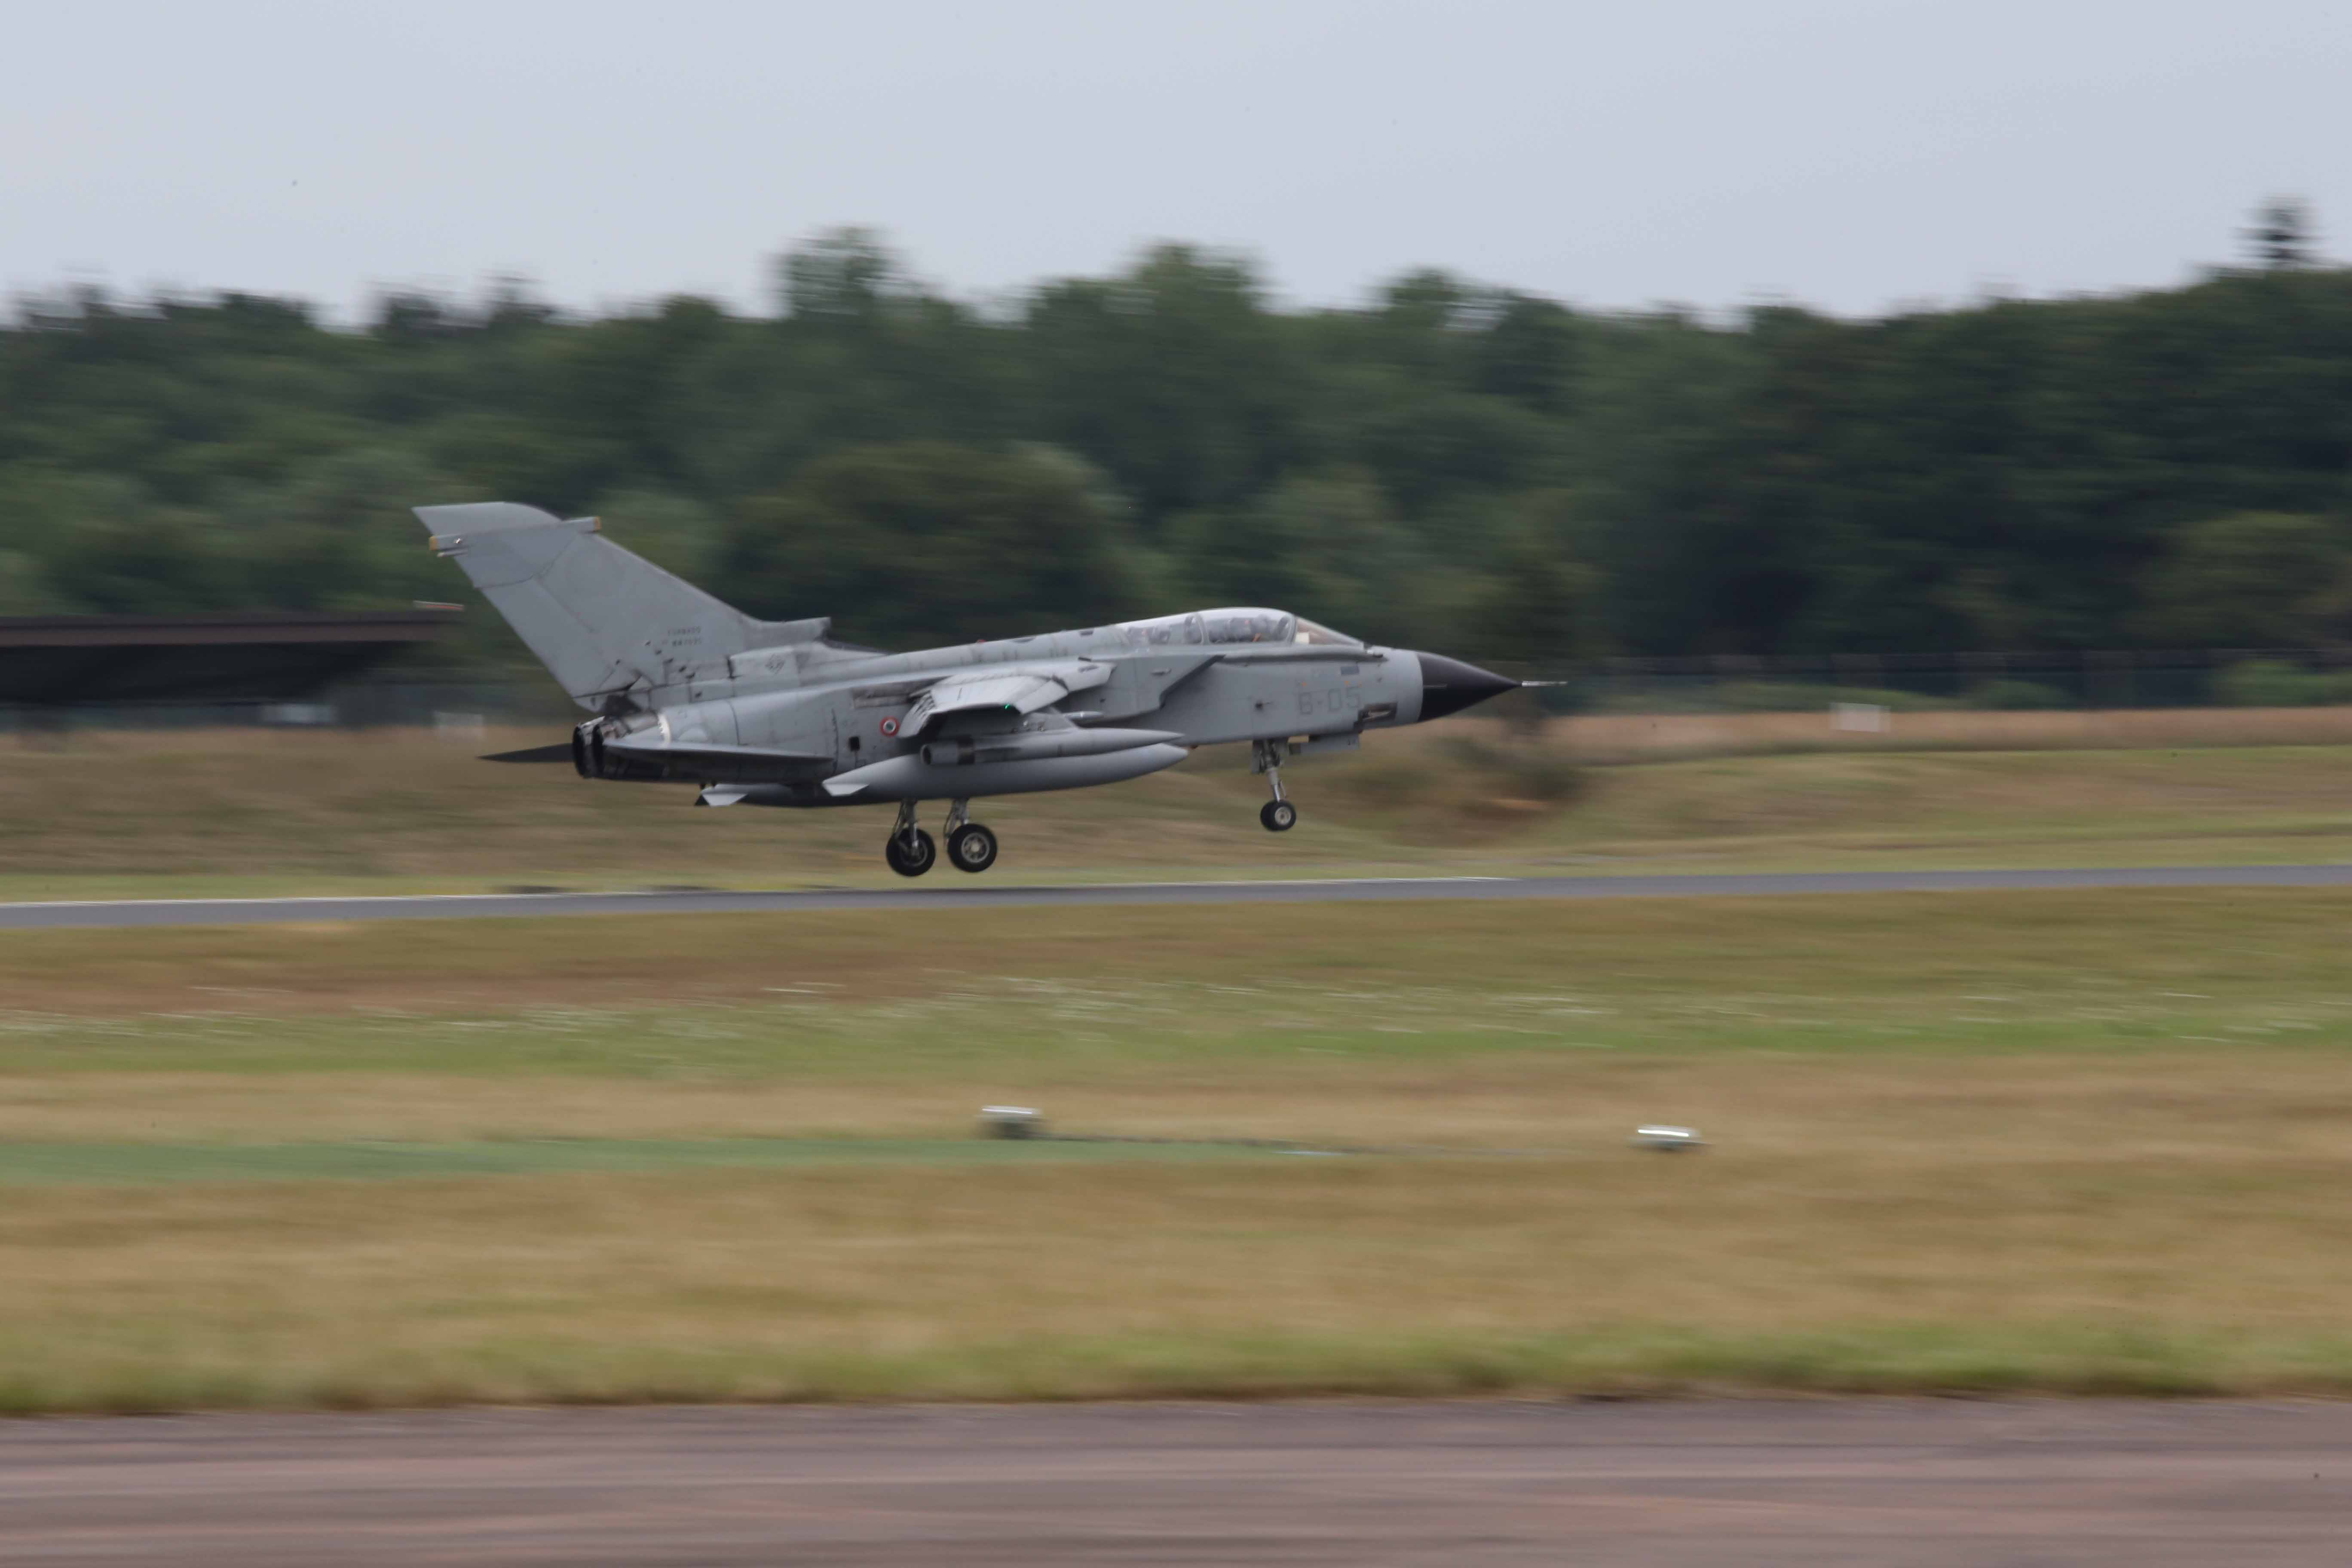Tornado: (409, 500, 1568, 877)
